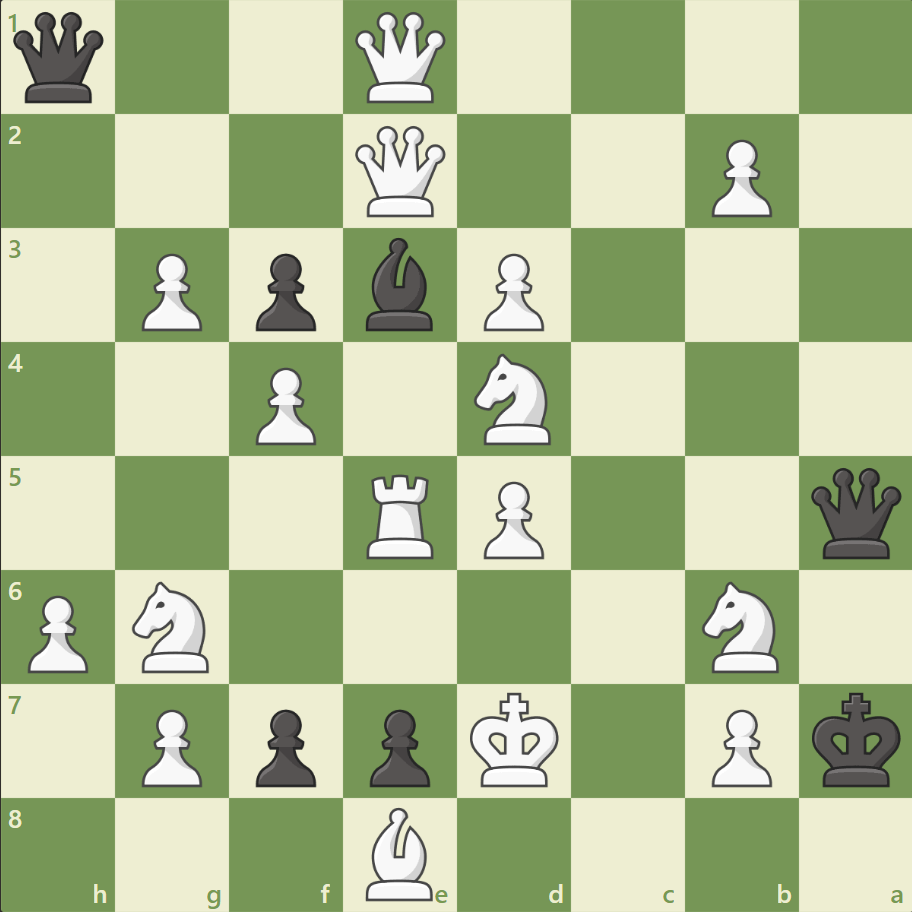B: (358, 801, 442, 904)
K: (465, 685, 565, 793)
N: (124, 575, 222, 677), (692, 575, 789, 677), (465, 348, 562, 450)
P: (701, 700, 776, 791), (133, 700, 208, 791), (20, 586, 95, 677), (474, 473, 549, 564), (247, 359, 322, 450), (474, 246, 549, 337), (133, 246, 208, 337), (701, 132, 776, 223)
Q: (351, 122, 450, 222), (351, 9, 450, 108)
R: (360, 466, 442, 563)
b: (358, 233, 442, 336)
k: (806, 685, 906, 793)
p: (247, 700, 322, 791), (247, 246, 322, 337), (361, 700, 435, 791)
q: (805, 463, 904, 562), (10, 9, 109, 108)
